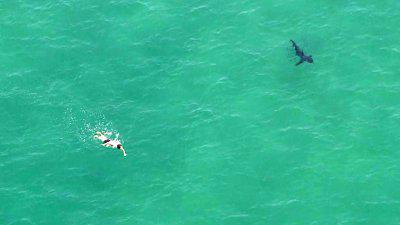human: (93, 130, 129, 158)
